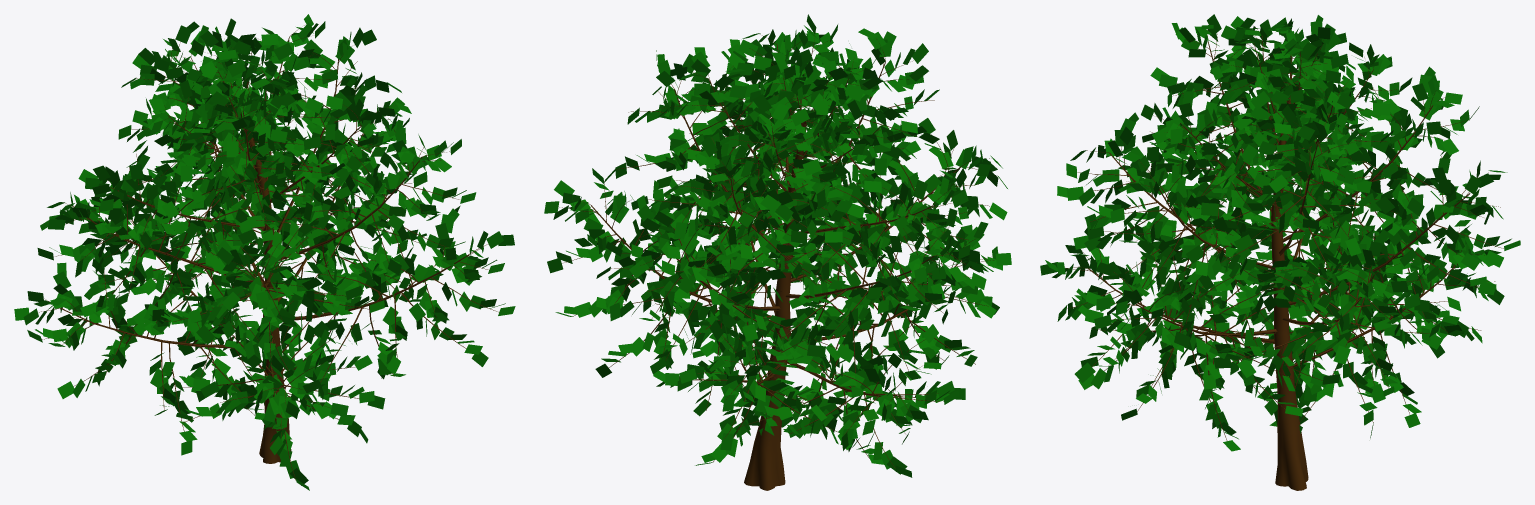
Rendered from Busch4 Neu.FBX.
The picture shows the model from 3 angles, left to right: view 1: azimuth 30°, elevation 25°; view 2: azimuth 150°, elevation 25°; view 3: azimuth 270°, elevation 25°; orthographic projection. The views are drawn at different scales.
Parts seen in each view (by area): view 1: Foliage007; view 2: Foliage007; view 3: Foliage007.
Part boxes in pixels (x1=…): Foliage007: x1=14, y1=14, x2=515, y2=490; Foliage007: x1=544, y1=14, x2=1011, y2=490; Foliage007: x1=1040, y1=14, x2=1520, y2=490.
Size of the model in its own units: 247 by 266 by 260.
